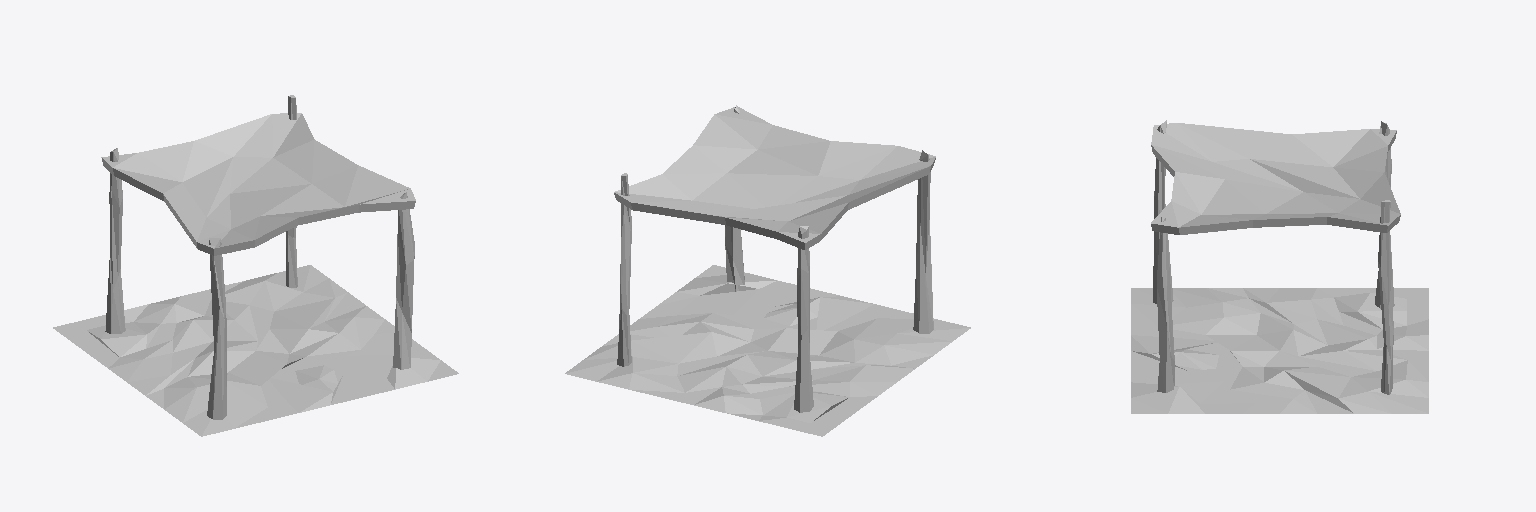
File: Canopy.obj
The picture shows the model from 3 angles: view 1: azimuth 30°, elevation 25°; view 2: azimuth 150°, elevation 25°; view 3: azimuth 270°, elevation 25°; orthographic projection.
Parts seen in each view (by area): view 1: Plane.003; view 2: Plane.003; view 3: Plane.003.
Part boxes in pixels (x1,y1,x2,y2): Plane.003: (53, 95, 458, 436); Plane.003: (565, 105, 970, 436); Plane.003: (1131, 120, 1428, 413).
Bounding box in the file's own units: 4 × 2.91 × 4.